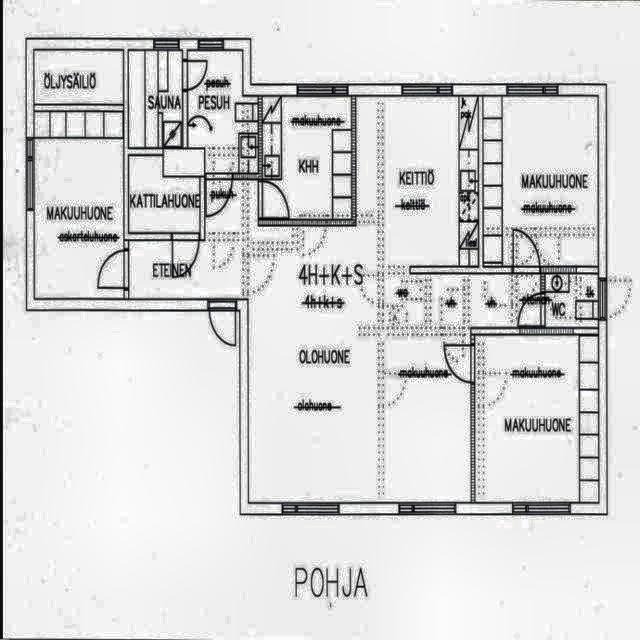room: (475, 337, 598, 502), (483, 96, 598, 266), (35, 139, 123, 298), (264, 98, 351, 218), (188, 50, 258, 173), (129, 157, 199, 232), (545, 274, 598, 327)
